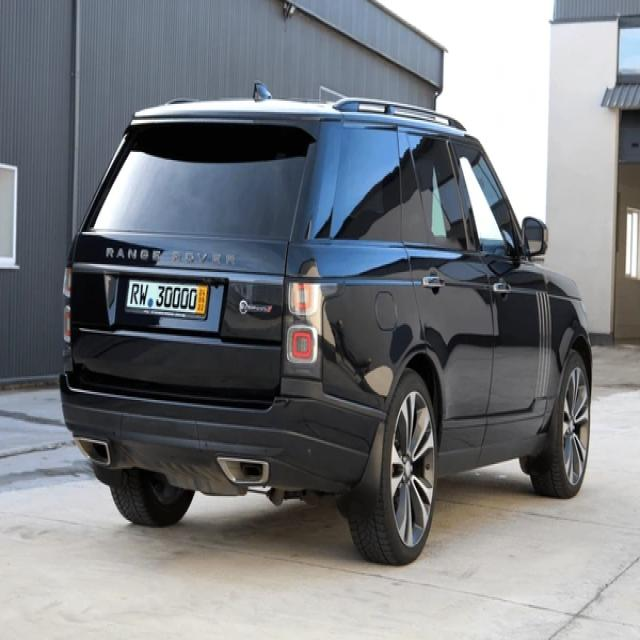rangerover: (101, 243, 257, 271)
